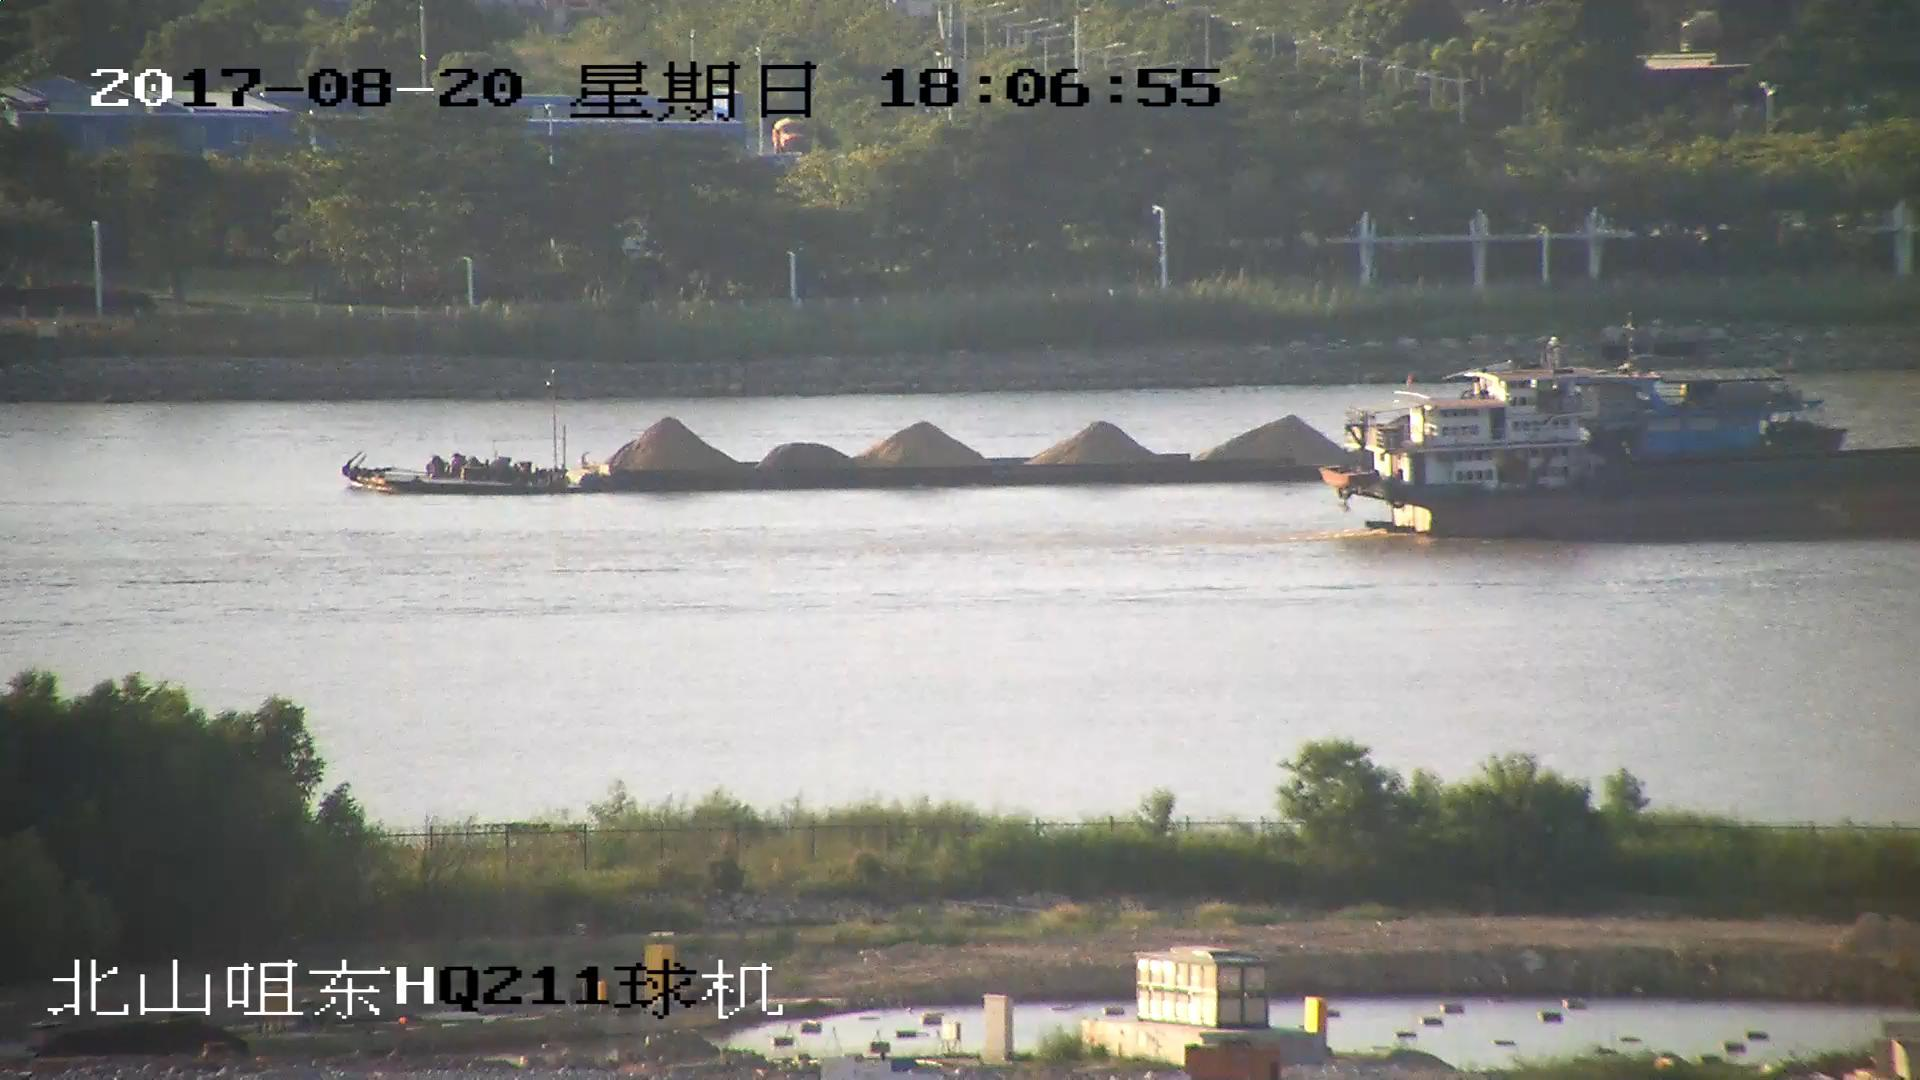Ship: (343, 343, 1840, 496), (1324, 372, 1920, 545)
